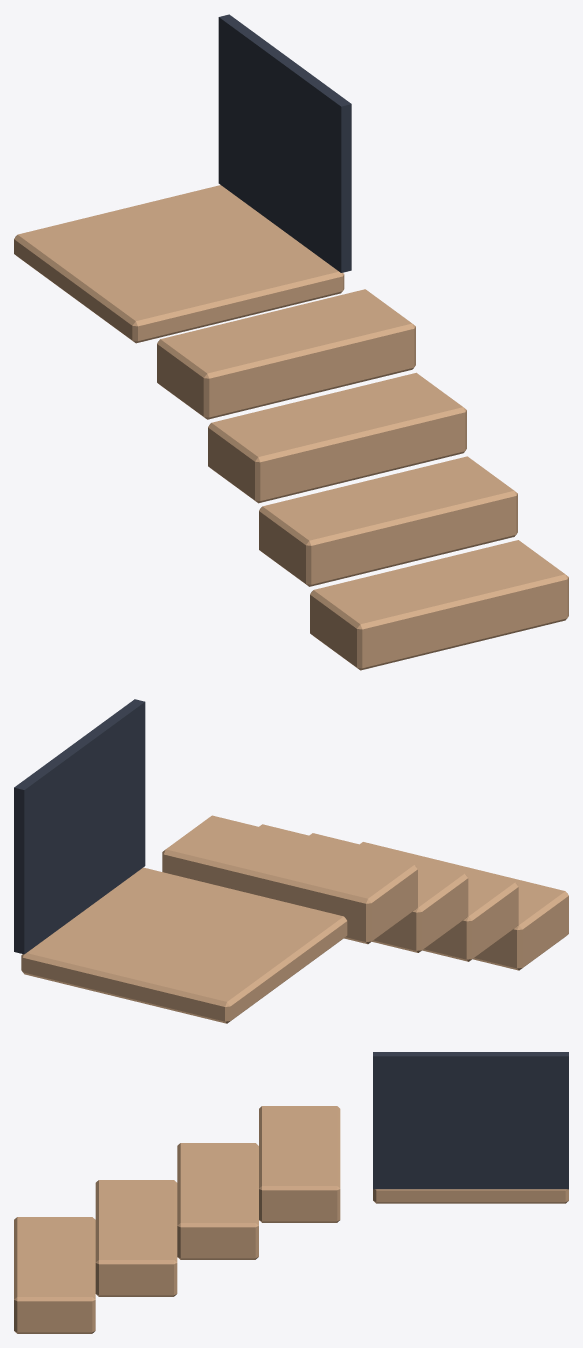
Rendered from stairs.glb.
3 views of the same model, one above another, from view 1: azimuth 30°, elevation 25°; view 2: azimuth 150°, elevation 25°; view 3: azimuth 270°, elevation 25° (orthographic). The views are drawn at different scales.
Parts seen in each view (by area): view 1: stairs_deck, stairs_rail, stairs_step2, stairs_step1, stairs, stairs_step3; view 2: stairs_deck, stairs_rail, stairs_step3, stairs_step1, stairs_step2, stairs; view 3: stairs_rail, stairs_step1, stairs_step2, stairs, stairs_step3, stairs_deck.
Boxes of the visible parts, x1,y1,x2,y2 form: stairs_deck: (14, 185, 344, 343); stairs_rail: (218, 14, 351, 272); stairs_step2: (208, 372, 466, 503); stairs_step1: (259, 456, 517, 586); stairs: (310, 540, 568, 670); stairs_step3: (157, 289, 415, 419); stairs_deck: (21, 867, 347, 1023); stairs_rail: (14, 699, 145, 954); stairs_step3: (162, 815, 417, 944); stairs_step1: (309, 833, 518, 961); stairs_step2: (259, 824, 468, 952); stairs: (360, 842, 568, 970); stairs_rail: (373, 1052, 568, 1189); stairs_step1: (95, 1180, 177, 1296); stairs_step2: (177, 1143, 258, 1259); stairs: (14, 1217, 95, 1333); stairs_step3: (259, 1106, 340, 1222); stairs_deck: (373, 1189, 568, 1203).
Size of the model in its own units: 1.23 by 1.9 by 3.4.
